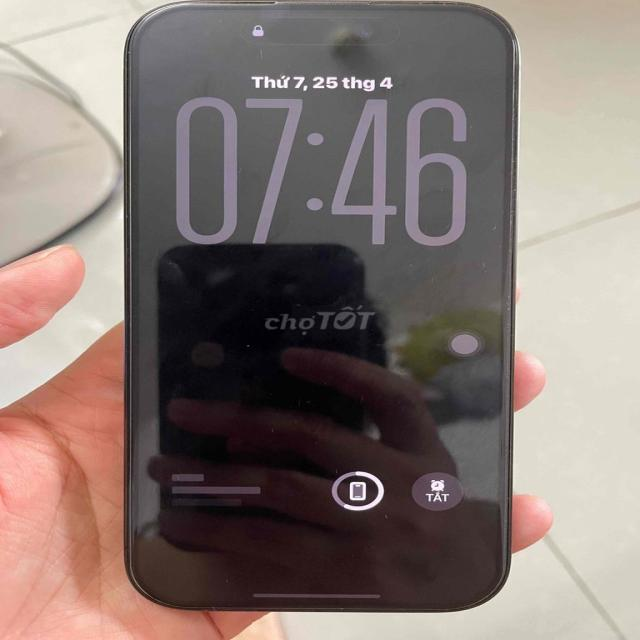gen_15: (92, 0, 513, 619)
